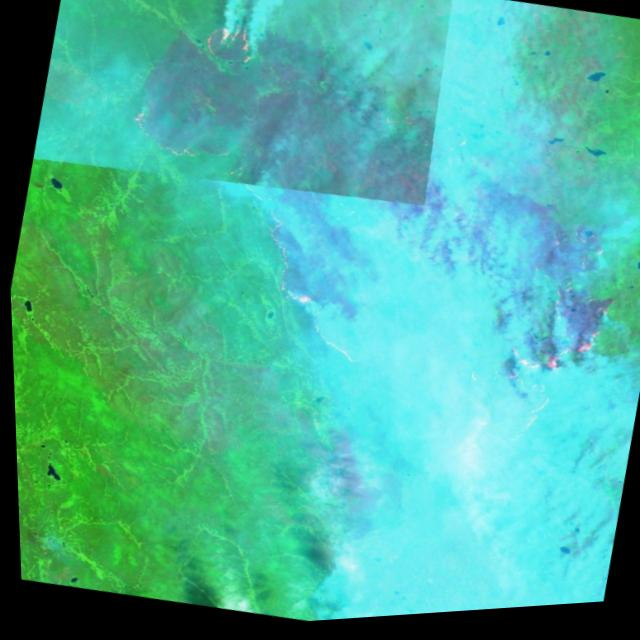fire: (236, 202, 397, 380), (473, 291, 619, 439), (114, 103, 233, 176), (182, 13, 277, 88)
